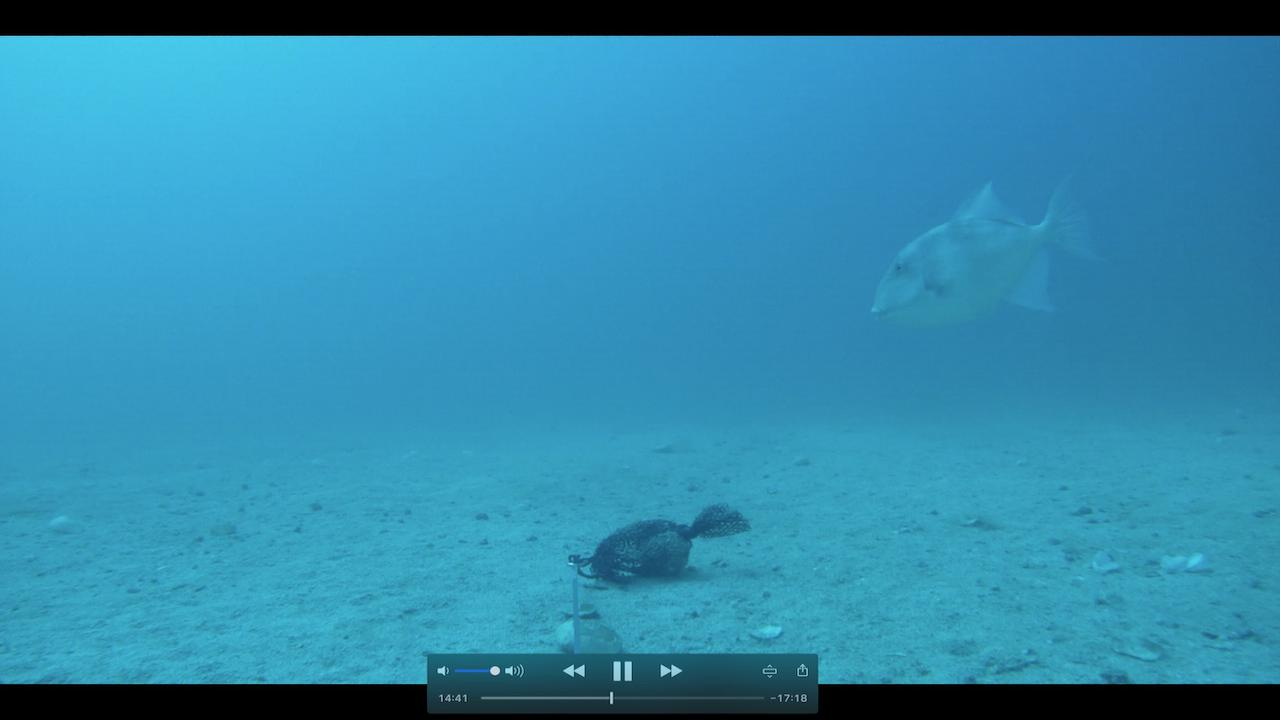balistes: (865, 155, 1109, 333)
